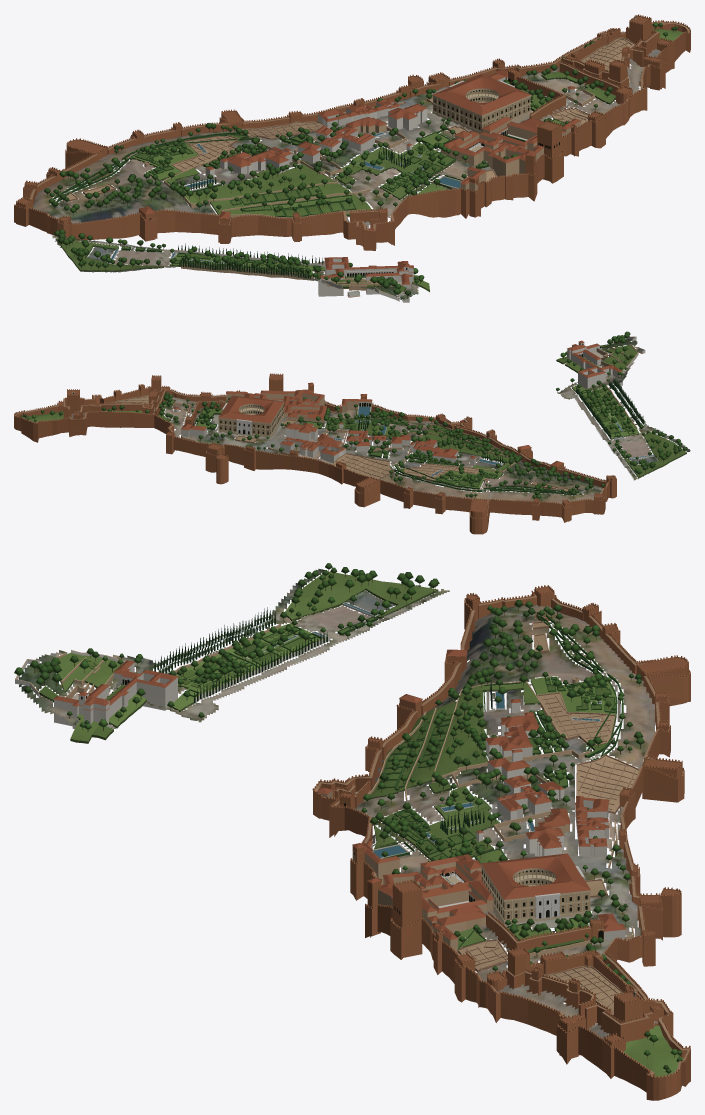
The picture shows the model from 3 angles, top to bottom: view 1: azimuth 30°, elevation 25°; view 2: azimuth 150°, elevation 25°; view 3: azimuth 270°, elevation 25°; orthographic projection. The views are drawn at different scales.
Visible parts, largest first — view 1: walls, open_ground, trees, gardens, buildings, towers, vegetation, palace_charles_v, generalife, nasrid_palaces; view 2: walls, open_ground, trees, gardens, buildings, towers, vegetation, palace_charles_v, generalife, nasrid_palaces; view 3: walls, open_ground, gardens, trees, buildings, towers, vegetation, palace_charles_v, generalife, nasrid_palaces.
Part boxes in pixels (box(x1,y1,x2,y2)): walls: box(14, 20, 690, 301); open_ground: box(33, 29, 660, 299); trees: box(44, 22, 677, 298); gardens: box(55, 28, 682, 292); buildings: box(205, 69, 580, 297); towers: box(16, 14, 672, 243); vegetation: box(53, 85, 564, 278); palace_charles_v: box(432, 74, 531, 133); generalife: box(318, 257, 413, 302); nasrid_palaces: box(434, 126, 536, 191); walls: box(14, 336, 638, 534); open_ground: box(34, 339, 690, 503); trees: box(20, 331, 687, 498); gardens: box(23, 343, 686, 489); buildings: box(174, 344, 645, 466); towers: box(58, 373, 615, 532); vegetation: box(196, 356, 644, 495); palace_charles_v: box(218, 395, 284, 438); generalife: box(567, 340, 622, 389); nasrid_palaces: box(266, 398, 372, 418); walls: box(15, 590, 690, 1100); open_ground: box(19, 568, 658, 1038); gardens: box(39, 571, 683, 1076); trees: box(14, 563, 682, 1074); buildings: box(50, 653, 625, 961); towers: box(339, 585, 688, 1058); vegetation: box(107, 607, 623, 949); palace_charles_v: box(480, 853, 590, 927); generalife: box(53, 660, 178, 728); nasrid_palaces: box(352, 842, 479, 908).
Bounding box in the file's own units: 770 × 81.23 × 475.
